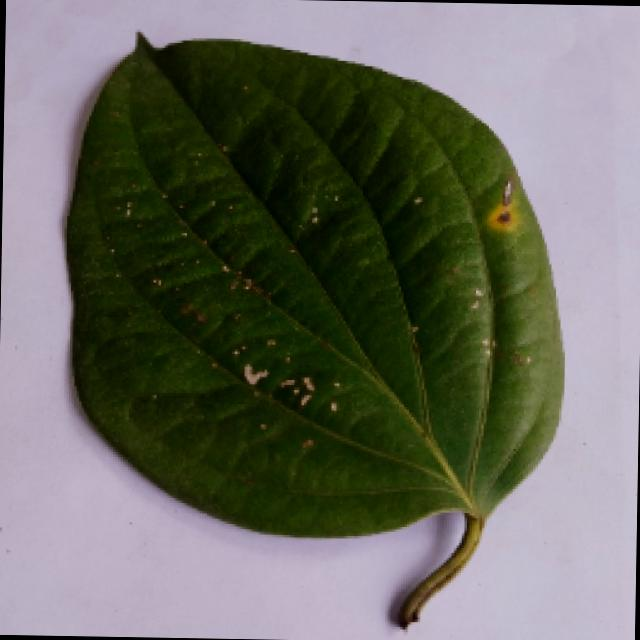pollu-disease: (58, 31, 562, 620)
